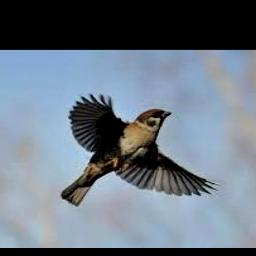Sparrow: (62, 92, 219, 206)
